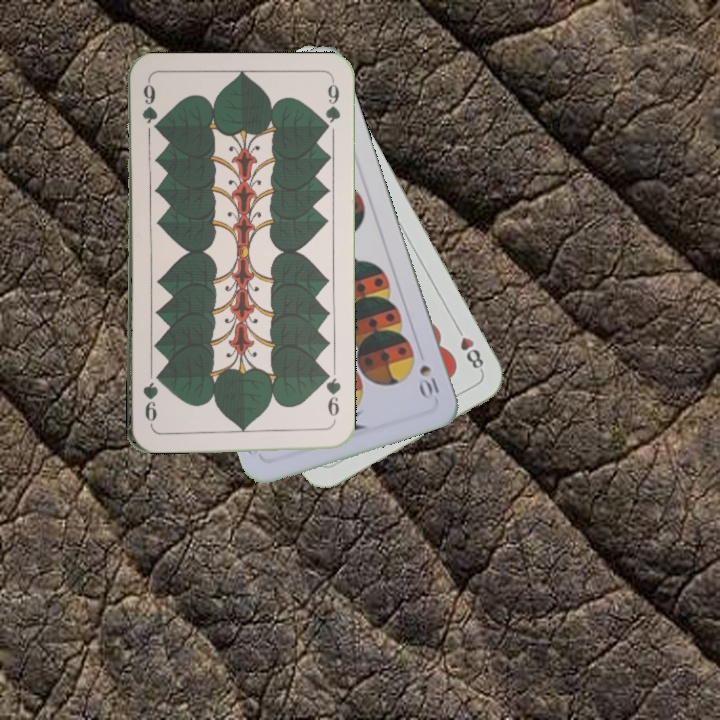G9: (138, 78, 160, 134), (320, 367, 344, 418)
H8: (451, 321, 487, 374)
S10: (415, 361, 442, 399)
